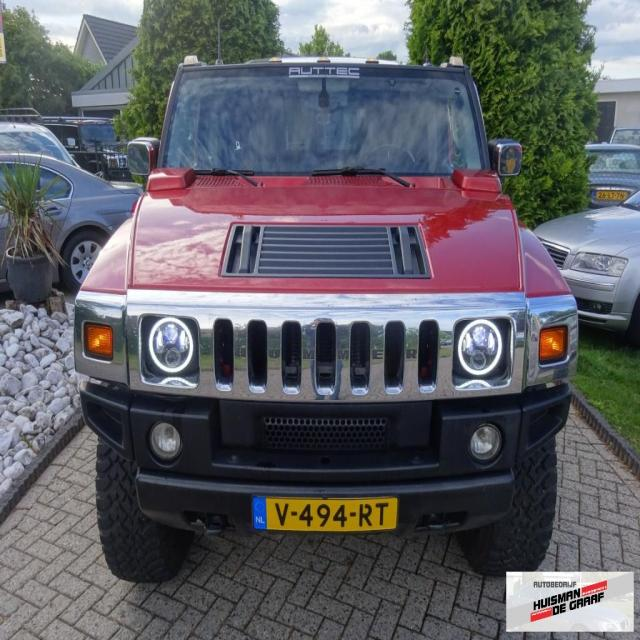number_plate: (248, 491, 402, 533)
